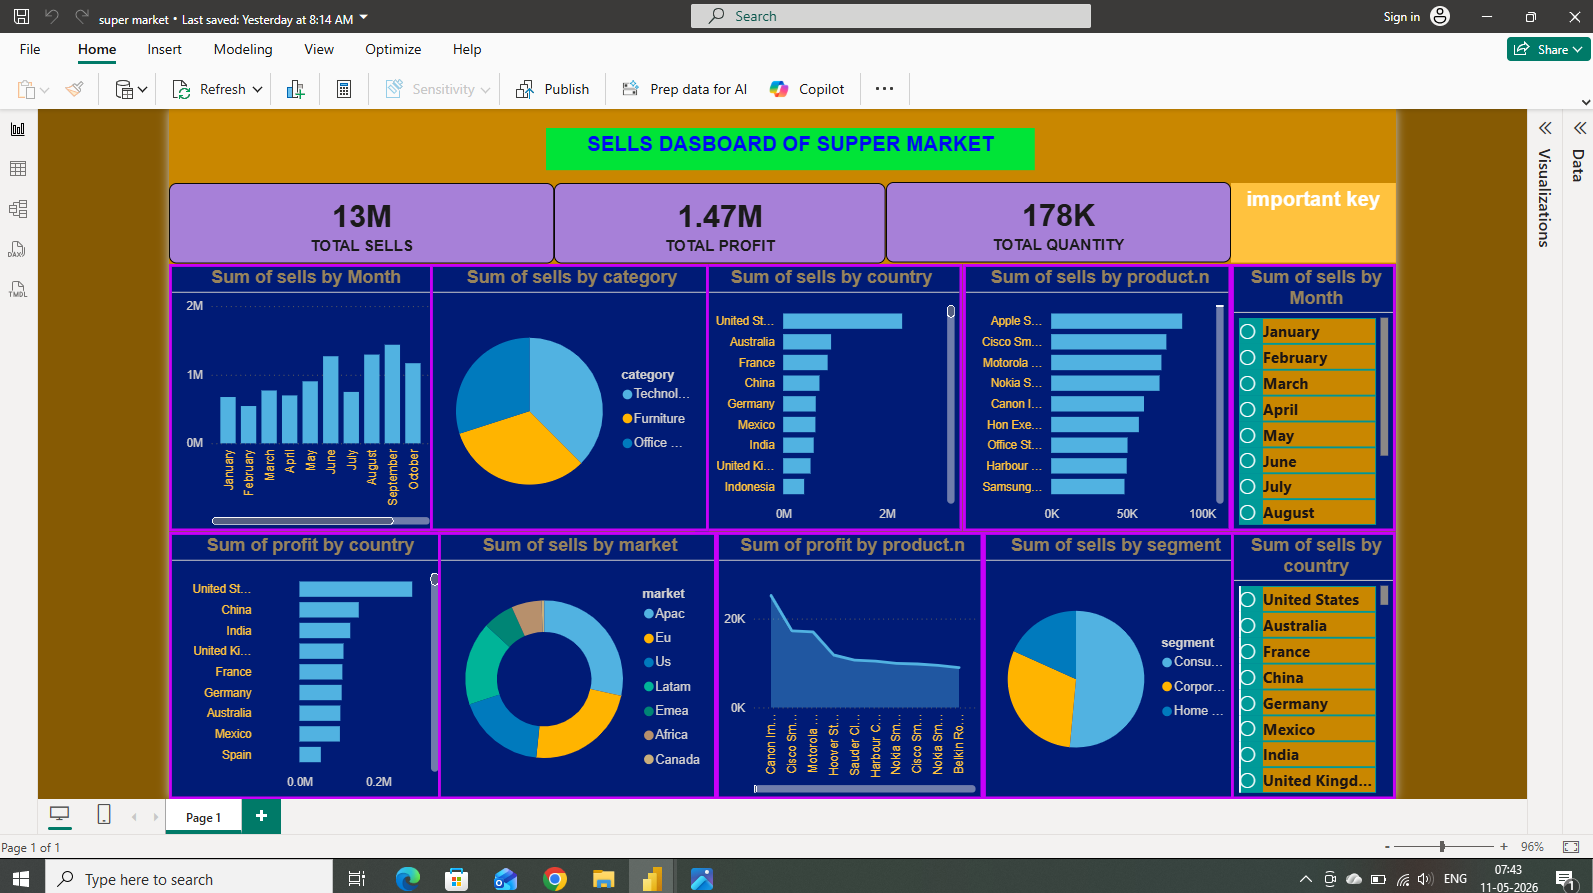

This screenshot's page, from the dashboard's own definition file:
{"tool":"powerbi","page":{"name":"Page 1","canvas":[1280,720],"ordinal":0},"visuals":[{"type":"columnChart","fields":{"Category":["super market dta.order_date.Variation.Date Hierarchy.Month"],"Y":["Sum(super market dta.sales)"]},"box":[0,161.8,280.3,279.1],"z":0},{"type":"clusteredBarChart","fields":{"Category":["super market dta.country"],"Y":["Sum(super market dta.sales)"]},"box":[549.1,161.8,279.1,279.1],"z":1000},{"type":"pieChart","fields":{"Category":["super market dta.category"],"Y":["Sum(super market dta.sales)"]},"box":[272.3,161.8,290.5,279.1],"z":2000},{"type":"clusteredBarChart","fields":{"Category":["super market dta.product_name"],"Y":["Sum(super market dta.sales)"]},"box":[828.2,161.8,280.3,279.1],"z":3000},{"type":"clusteredBarChart","fields":{"Category":["super market dta.country"],"Y":["Sum(super market dta.profit)"]},"box":[0,440.9,289.4,279.1],"z":4000},{"type":"donutChart","fields":{"Y":["Sum(super market dta.sales)"],"Category":["super market dta.market"]},"box":[280.3,440.9,290.5,279.1],"z":5000},{"type":"stackedAreaChart","fields":{"Y":["Sum(super market dta.profit)"],"Category":["super market dta.product_name"]},"box":[570.8,440.9,279.1,279.1],"z":6000},{"type":"pieChart","fields":{"Y":["Sum(super market dta.sales)"],"Category":["super market dta.segment"]},"box":[849.9,440.9,271.1,279.1],"z":7000},{"type":"textbox","box":[393,19.4,510.4,44.4],"z":8000},{"type":"listSlicer","fields":{"Values":["super market dta.order_date.Variation.Date Hierarchy.Month"]},"box":[1108.5,161.8,172,279.1],"z":9000},{"type":"listSlicer","fields":{"Values":["super market dta.country"]},"box":[1108.5,440.9,172,279.1],"z":10000},{"type":"textbox","box":[1108.5,77.5,172,83.2],"z":11000},{"type":"card","fields":{"Values":["Sum(super market dta.sales)"]},"box":[0,77.5,402.2,84.3],"z":12000},{"type":"card","fields":{"Values":["Sum(super market dta.profit)"]},"box":[402.2,77.5,346.3,84.3],"z":13000},{"type":"card","fields":{"Values":["select","Sum(super market dta.quantity)"]},"box":[748.1,76.5,360,84.4],"z":14000}]}

Visuals, with their boxes on the page's 1280x720 design canvas (x1, y1, x2, y2). These are canvas units, not pixel positions in the 1593x893 screenshot, which may show the page scaled, cropped or inside an application window:
columnChart - super market dta.order_date.Variation.Date Hierarchy.Month x Sum(super market dta.sales): bbox=(0, 162, 280, 441)
clusteredBarChart - super market dta.country x Sum(super market dta.sales): bbox=(549, 162, 828, 441)
pieChart - super market dta.category x Sum(super market dta.sales): bbox=(272, 162, 563, 441)
clusteredBarChart - super market dta.product_name x Sum(super market dta.sales): bbox=(828, 162, 1108, 441)
clusteredBarChart - super market dta.country x Sum(super market dta.profit): bbox=(0, 441, 289, 720)
donutChart - Sum(super market dta.sales) x super market dta.market: bbox=(280, 441, 571, 720)
stackedAreaChart - Sum(super market dta.profit) x super market dta.product_name: bbox=(571, 441, 850, 720)
pieChart - Sum(super market dta.sales) x super market dta.segment: bbox=(850, 441, 1121, 720)
textbox: bbox=(393, 19, 903, 64)
listSlicer - super market dta.order_date.Variation.Date Hierarchy.Month: bbox=(1108, 162, 1280, 441)
listSlicer - super market dta.country: bbox=(1108, 441, 1280, 720)
textbox: bbox=(1108, 78, 1280, 161)
card - Sum(super market dta.sales): bbox=(0, 78, 402, 162)
card - Sum(super market dta.profit): bbox=(402, 78, 748, 162)
card - select x Sum(super market dta.quantity): bbox=(748, 76, 1108, 161)
